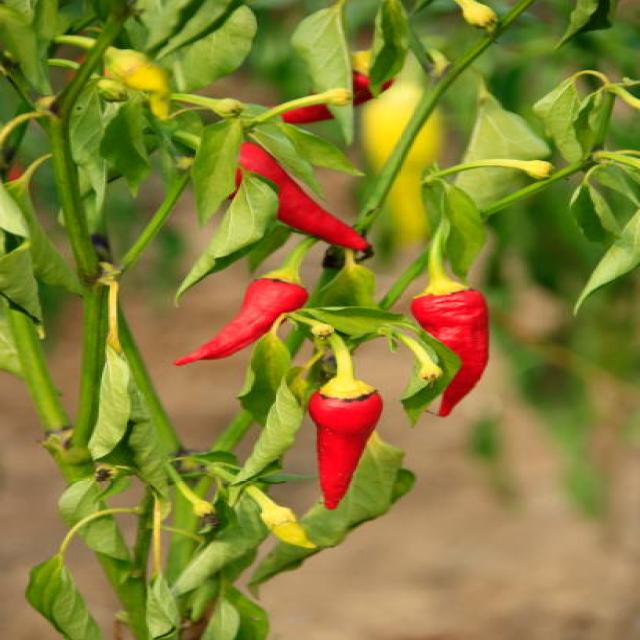Ripe: (240, 142, 370, 253), (176, 278, 306, 365), (413, 289, 486, 416), (311, 392, 381, 508)
